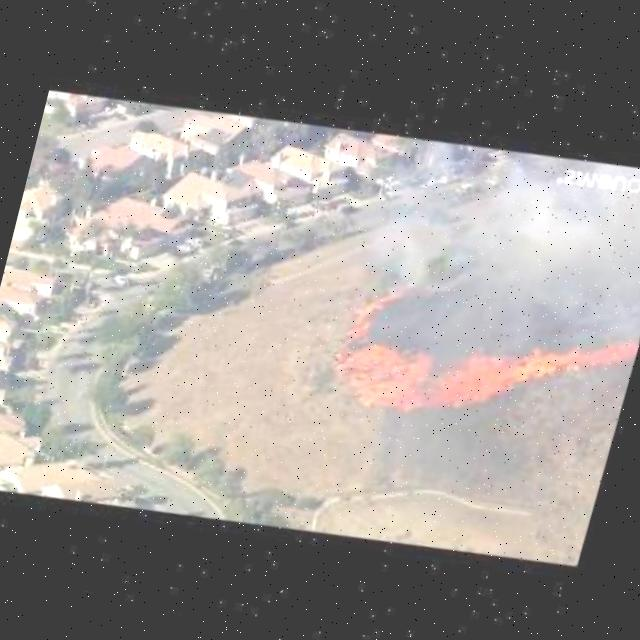fire: (323, 298, 578, 454), (337, 277, 408, 355), (566, 323, 640, 389)
